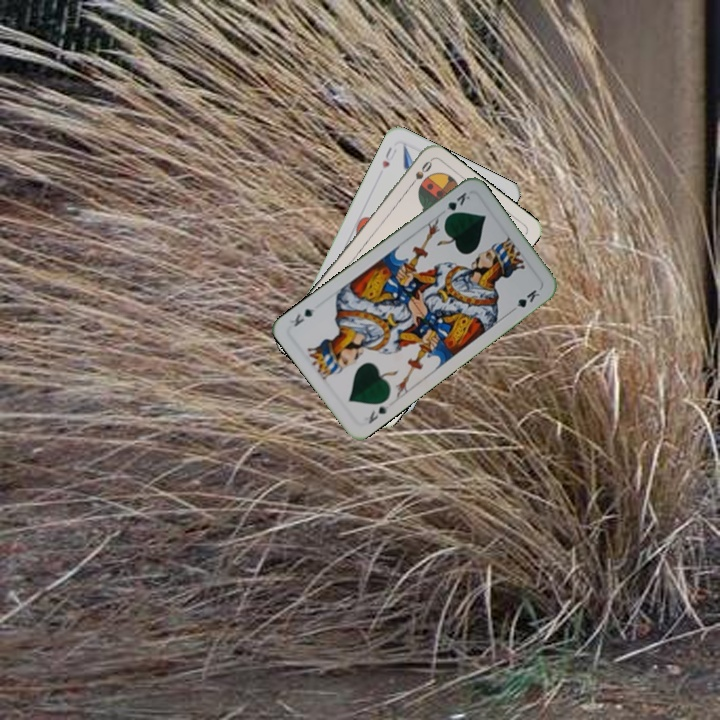GK: (440, 188, 473, 221), (360, 402, 392, 427)
HU: (378, 142, 399, 171)
SO: (404, 156, 435, 191)
